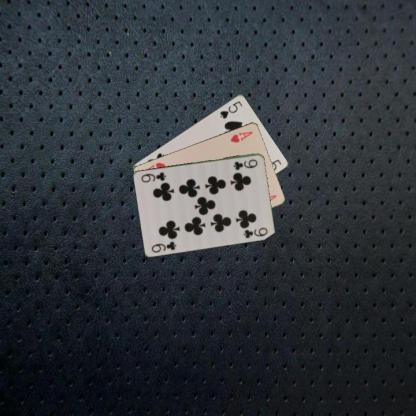5s: (217, 99, 243, 120)
9c: (148, 238, 178, 254), (230, 156, 259, 172)
Ah: (228, 129, 254, 144)
